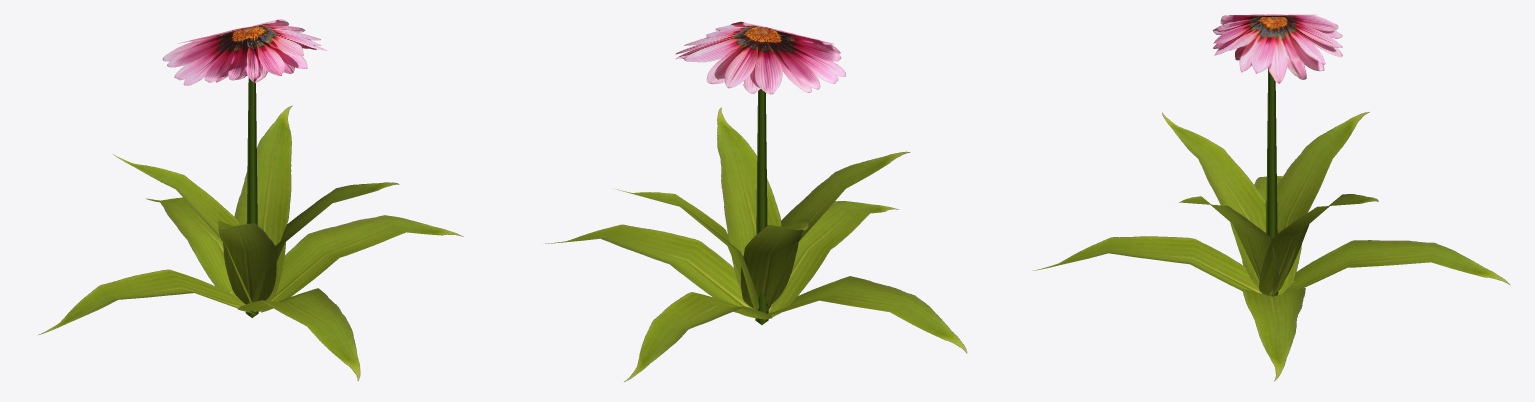
Rendered from flower plant9.FBX.
3 views of the same model, side by side, from view 1: azimuth 30°, elevation 25°; view 2: azimuth 150°, elevation 25°; view 3: azimuth 270°, elevation 25° (orthographic). The views are drawn at different scales.
Visible parts, largest first — view 1: Cylinder001; view 2: Cylinder001; view 3: Cylinder001.
Part boxes in pixels (x1,y1,x2,y2): Cylinder001: (37,19,463,380); Cylinder001: (545,21,967,381); Cylinder001: (1033,14,1510,381).
Bounding box in the file's own units: 5.26 × 3.3 × 5.22.
